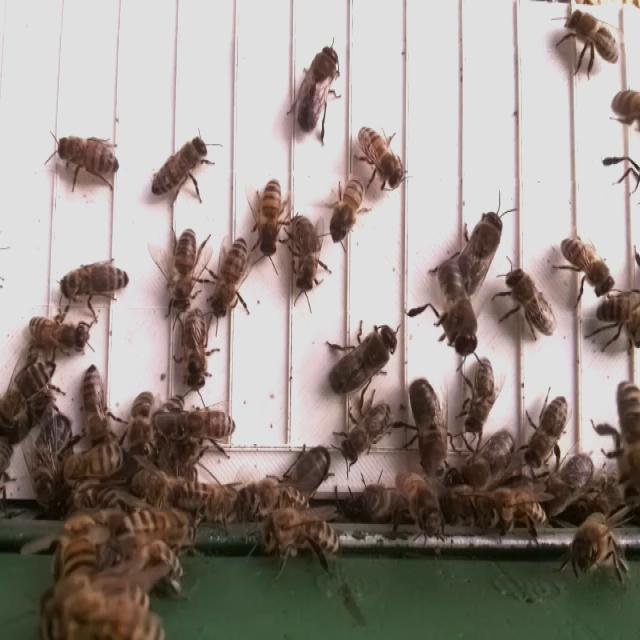Drone: (327, 322, 401, 397), (431, 258, 480, 359), (406, 374, 449, 483), (293, 42, 342, 137), (458, 207, 504, 291)
Worker: (149, 134, 209, 202), (504, 265, 558, 339), (523, 392, 571, 472), (206, 235, 251, 320), (338, 399, 395, 465), (355, 122, 406, 194), (563, 7, 623, 67), (560, 234, 614, 298), (1, 355, 57, 410), (463, 353, 499, 438), (59, 261, 131, 303), (174, 403, 241, 447), (179, 305, 212, 394), (330, 171, 367, 250), (79, 362, 113, 447), (55, 137, 122, 179), (170, 226, 199, 319), (26, 312, 90, 354), (290, 212, 322, 295), (259, 174, 284, 258)
